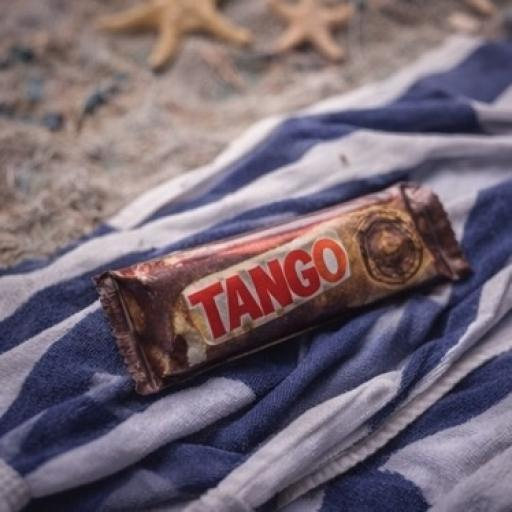tango: (80, 196, 495, 380)
